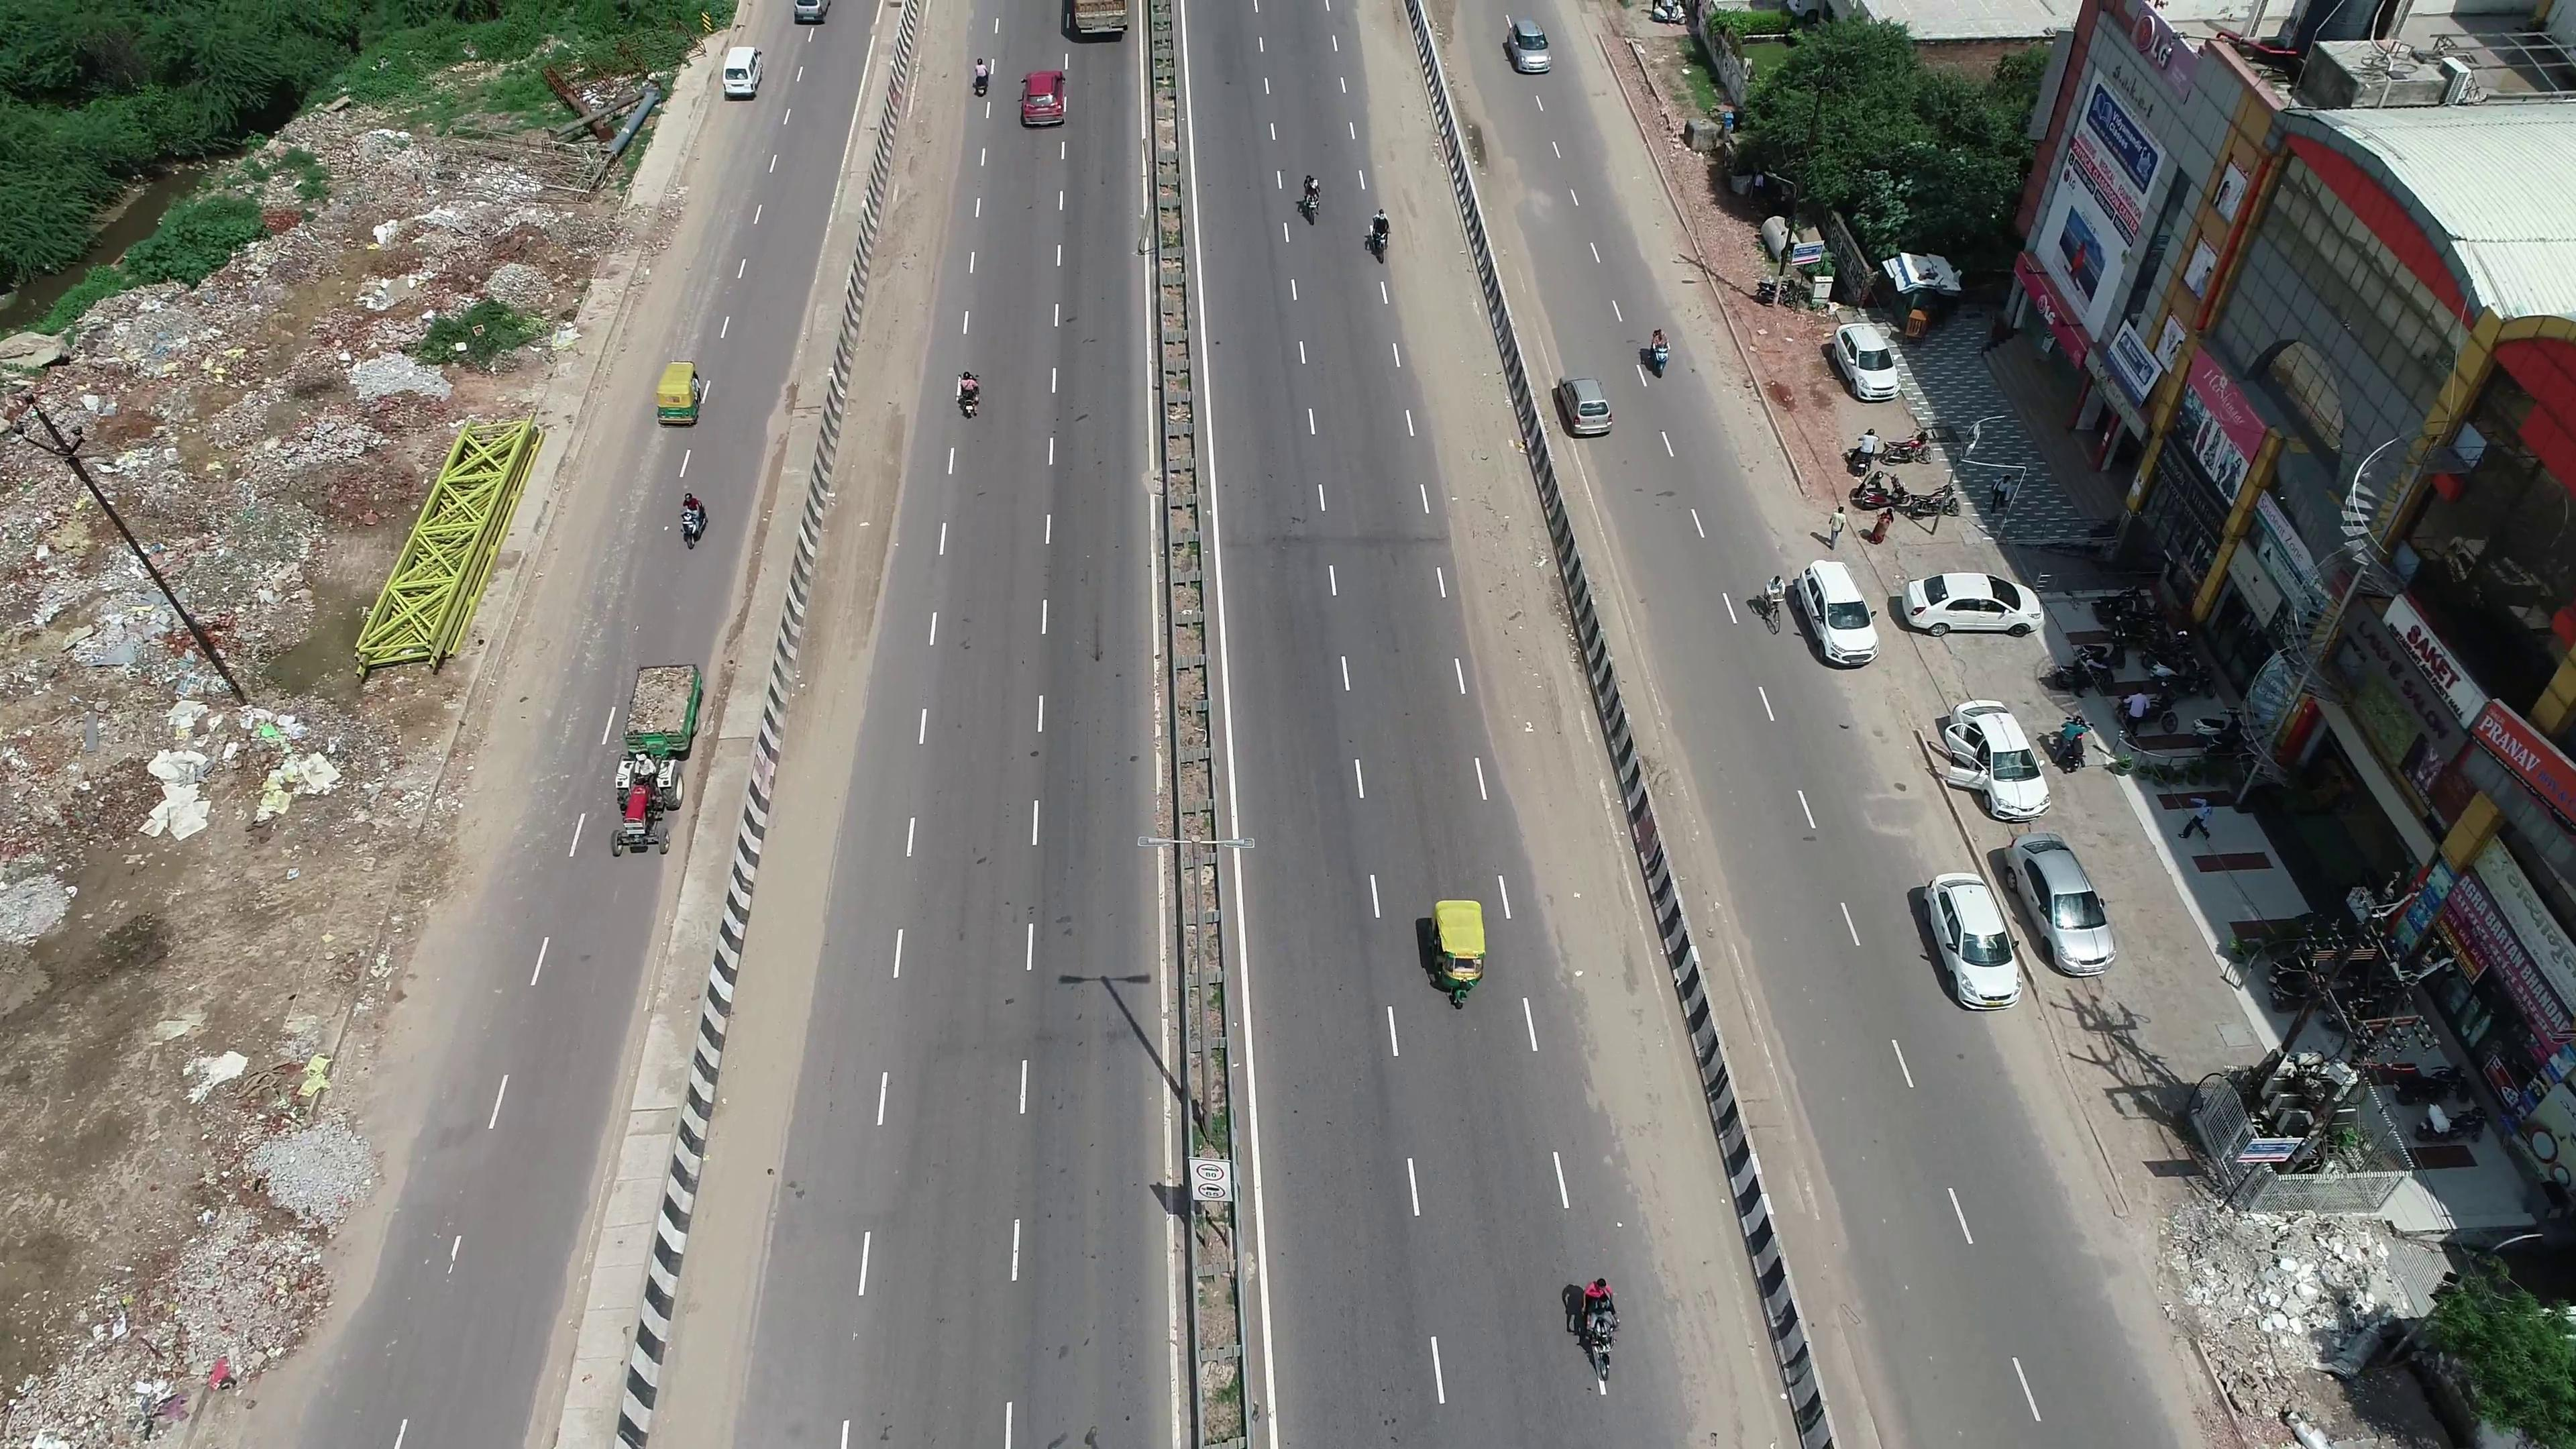Muddy_road: (1458, 556, 1608, 853), (819, 329, 931, 678), (1394, 276, 1523, 534), (874, 39, 964, 326), (1352, 14, 1440, 225)
